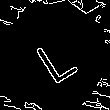L_NW: (28, 26, 82, 84)
